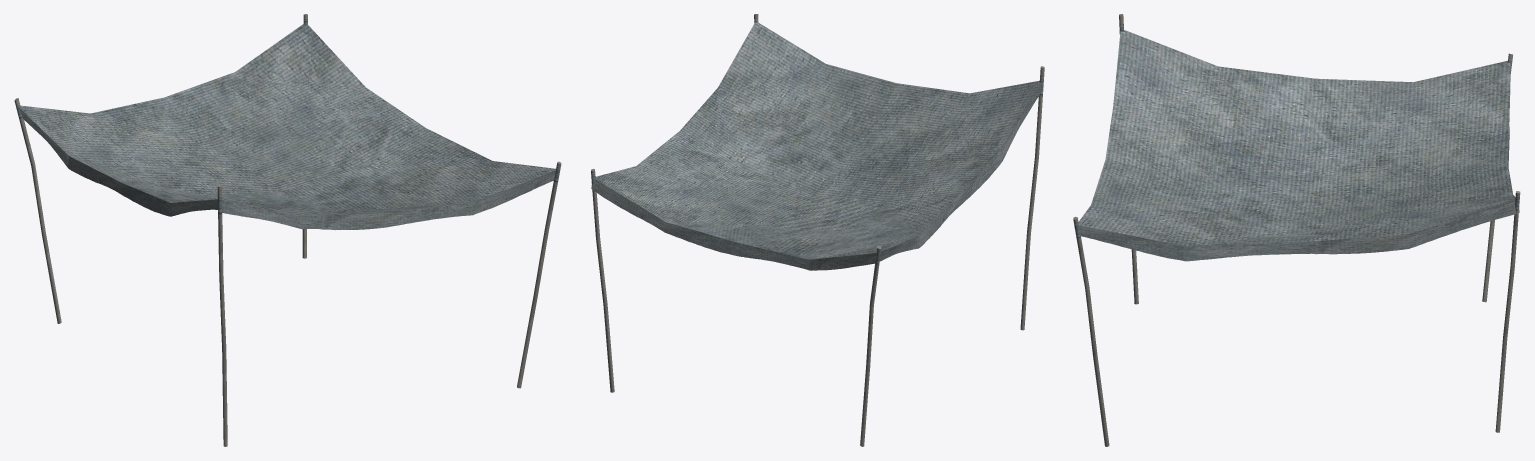
File: poi_all_tent_small_l0.fbx
3 renders of one model, left to right at view 1: azimuth 30°, elevation 25°; view 2: azimuth 150°, elevation 25°; view 3: azimuth 270°, elevation 25°, orthographic. The views are drawn at different scales.
Visible parts, largest first — view 1: mesh_node; view 2: mesh_node; view 3: mesh_node.
Boxes of the visible parts, bbox=[...] form: mesh_node: bbox=[14, 14, 561, 446]; mesh_node: bbox=[591, 14, 1044, 446]; mesh_node: bbox=[1073, 14, 1520, 446].
Size of the model in its own units: 4.87 by 3.69 by 5.3.
